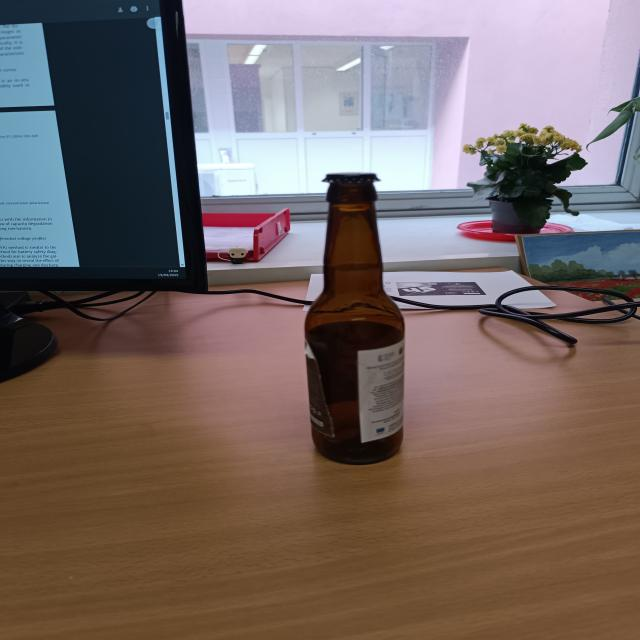Bottle: (303, 170, 406, 464)
Cap: (319, 172, 385, 186)
Label: (352, 348, 406, 441)
